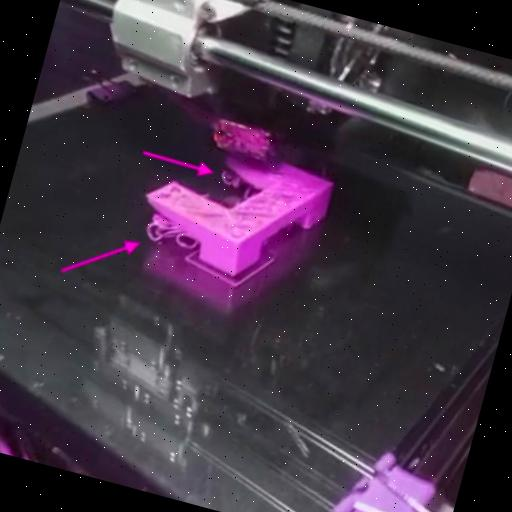spaghetti: (140, 206, 203, 258), (216, 166, 262, 204)
